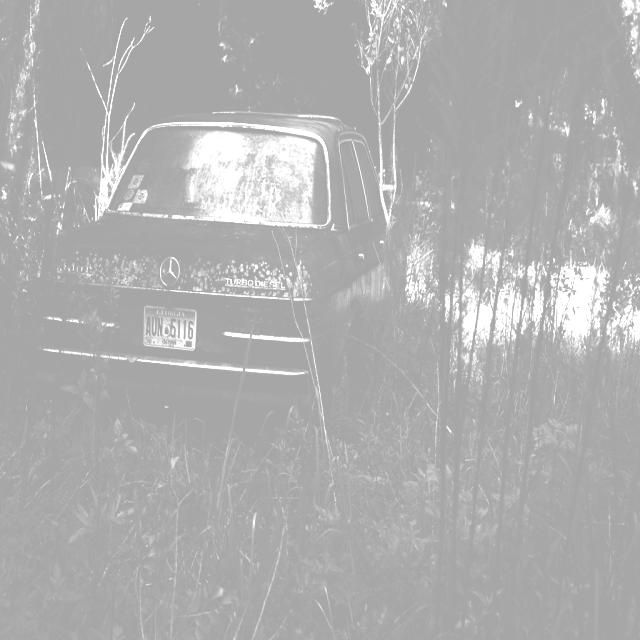Car: (40, 122, 404, 448)
